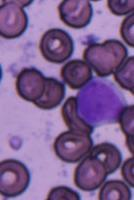L: (75, 76, 127, 125)
